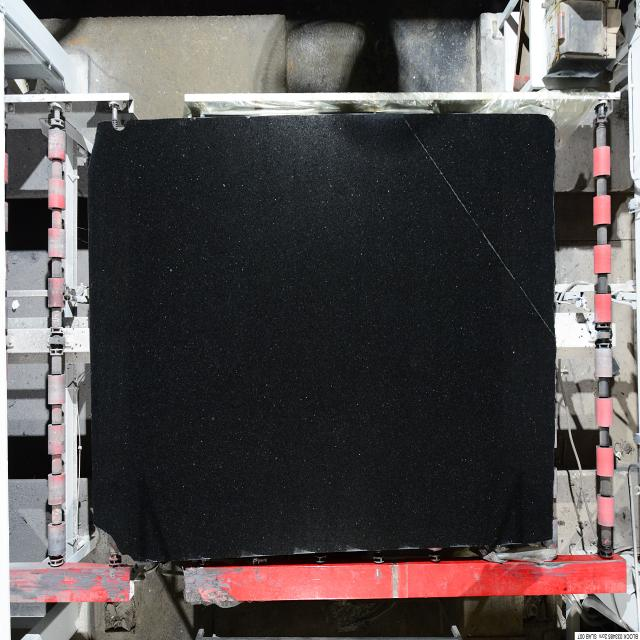chapa: (89, 113, 556, 559)
veio: (107, 112, 129, 135)
